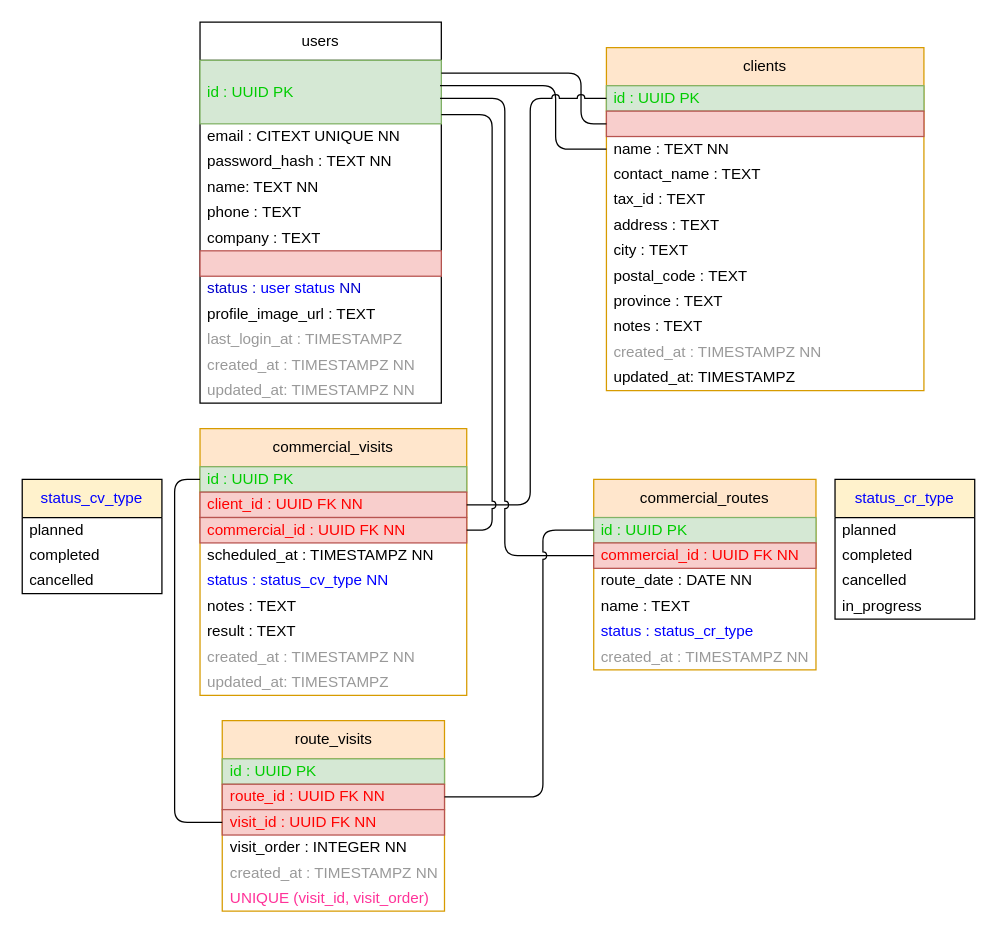
The diagram is 997 pixels wide and 933 high, and some of its shapes have lost their labels. The centre of each missing label's shape, as x and y in pixels:
"linked_user_id : UUID FK NN UNIQUE" belongs at point 764,123.
"role_id : SMALLINT NN FK" belongs at point 320,263.
